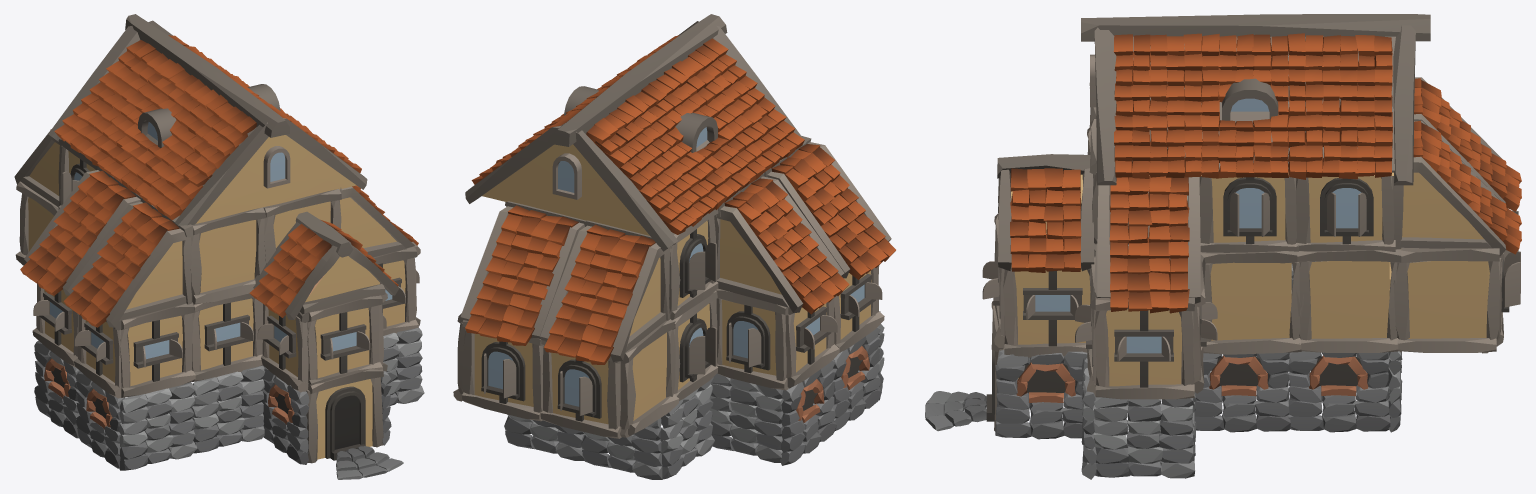
The model's file is big_building4.fbx.
3 renders of one model, left to right at view 1: azimuth 30°, elevation 25°; view 2: azimuth 150°, elevation 25°; view 3: azimuth 270°, elevation 25°, orthographic. The views are drawn at different scales.
Parts seen in each view (by area): view 1: big_building4; view 2: big_building4; view 3: big_building4.
Boxes of the visible parts, x1,y1,x2,y2 form: big_building4: (14, 14, 424, 479); big_building4: (453, 14, 895, 479); big_building4: (925, 14, 1521, 479).
Bounding box in the file's own units: 22.68 × 20.64 × 29.48.
